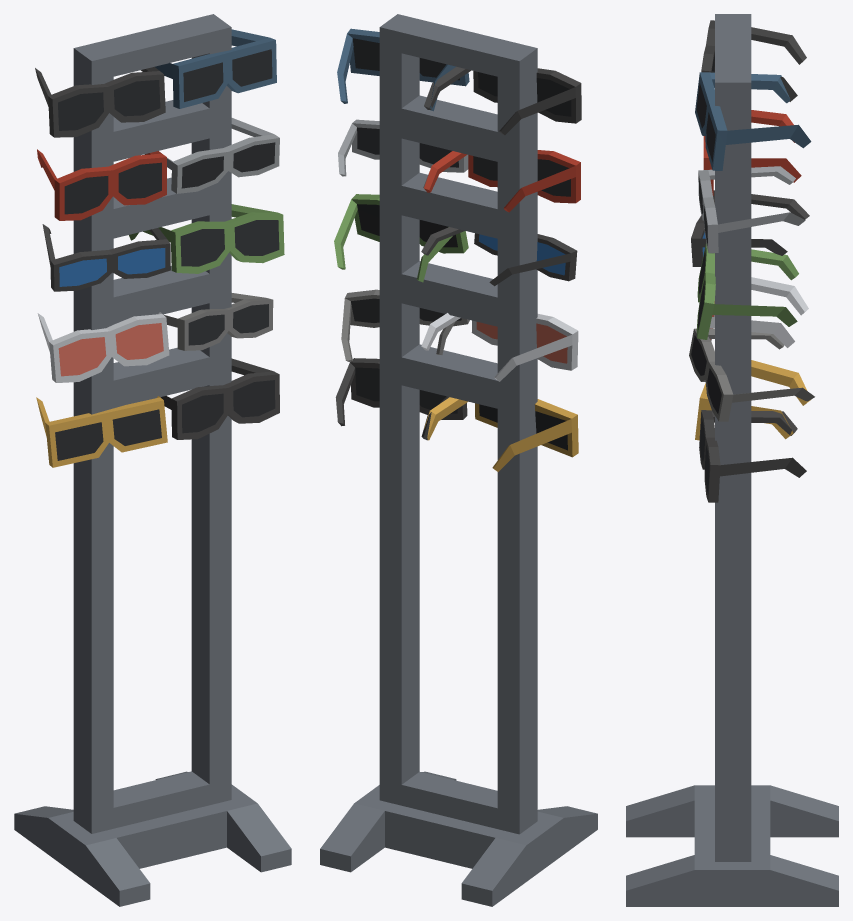
File: SM_Prop_GlassesStand_01.fbx
3 renders of one model, left to right at view 1: azimuth 30°, elevation 25°; view 2: azimuth 150°, elevation 25°; view 3: azimuth 270°, elevation 25°, orthographic.
Visible parts, largest first — view 1: SM_Prop_GlassesStand_01; view 2: SM_Prop_GlassesStand_01; view 3: SM_Prop_GlassesStand_01.
Part boxes in pixels (x1,y1,x2,y2): SM_Prop_GlassesStand_01: (14, 14, 291, 906); SM_Prop_GlassesStand_01: (320, 14, 597, 906); SM_Prop_GlassesStand_01: (626, 14, 838, 906).
Size of the model in its own units: 43.81 by 149 by 35.13.
